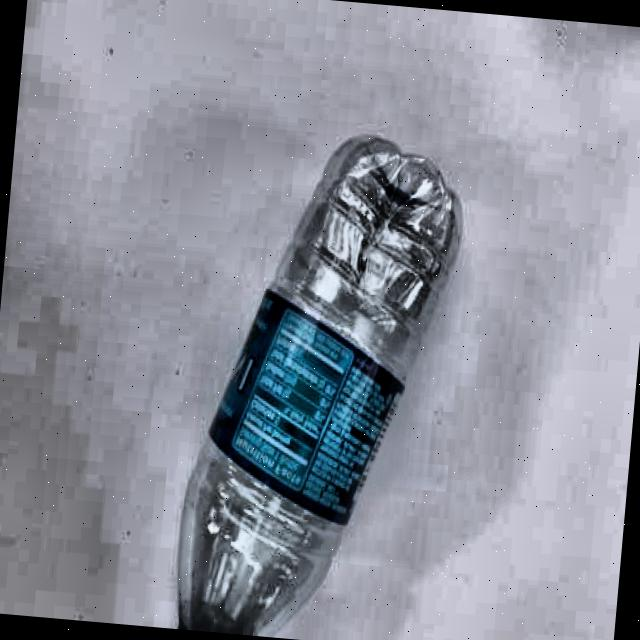plastic: (172, 121, 475, 640)
